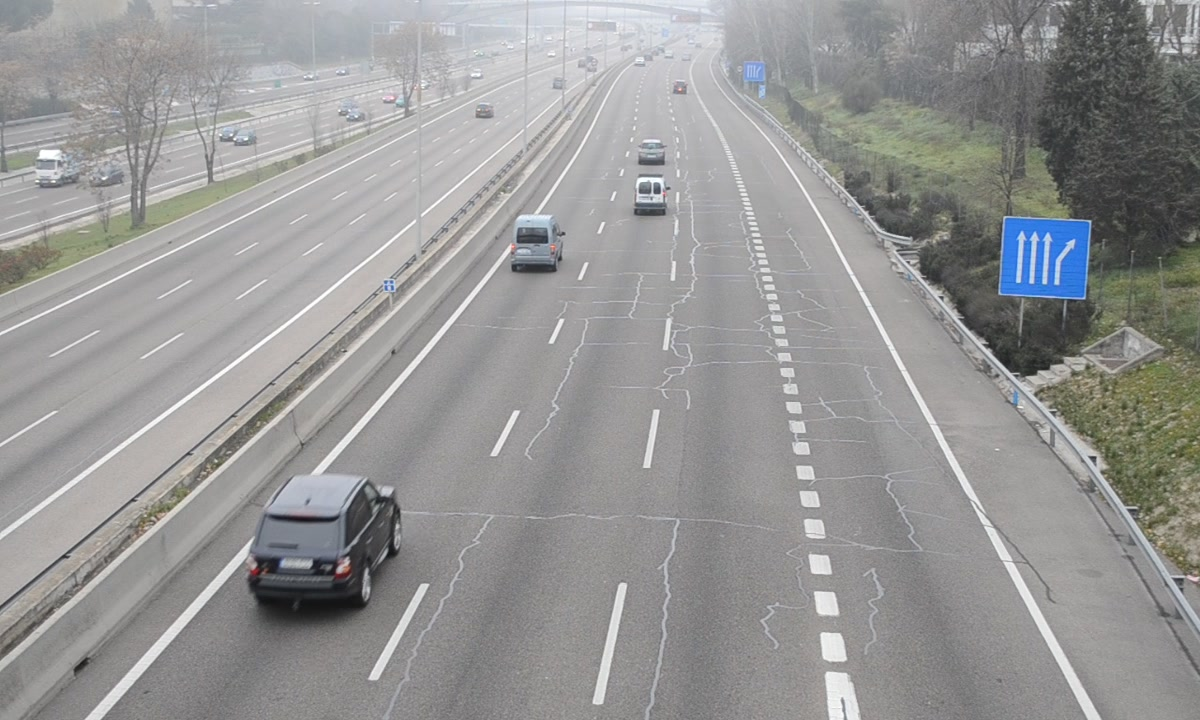car: (247, 477, 399, 605), (635, 139, 666, 166)
van: (510, 214, 565, 267), (633, 173, 666, 218)
